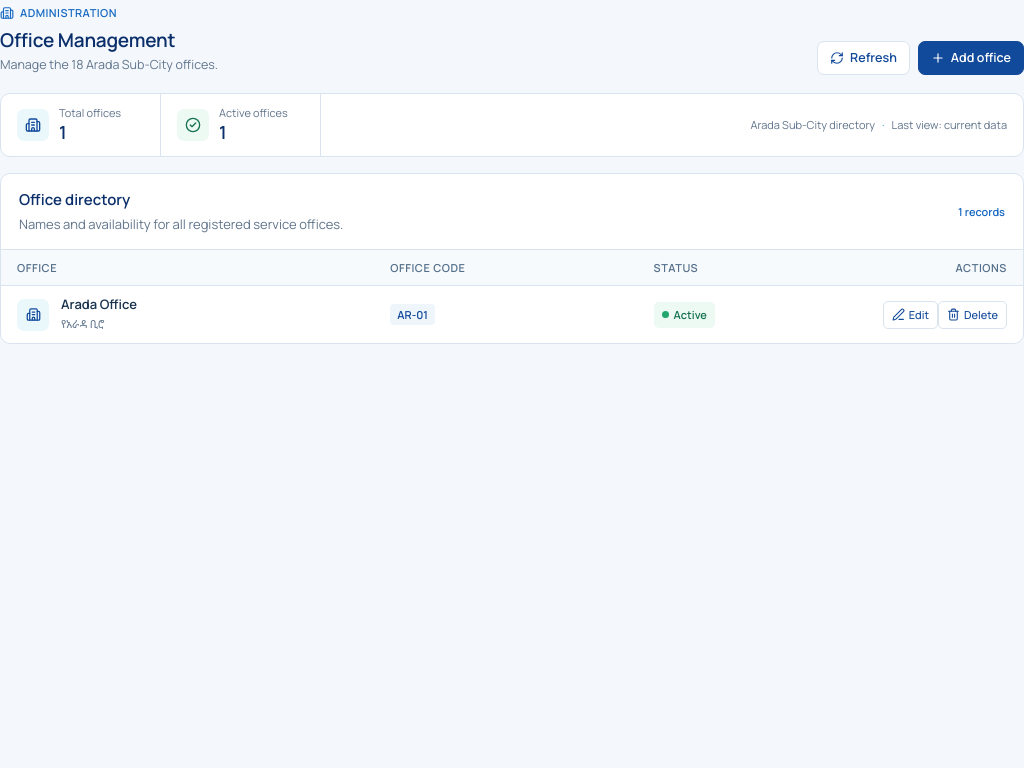
Scenario: OfficeManagement › confirms and deletes an office
The width and height of the screenshot is (1024, 768).
Expected: the text "Arada Office" is shown, [61,296,137,313]
Step 1. Click the button "Delete" → (972, 314), box [938,300,1007,328]
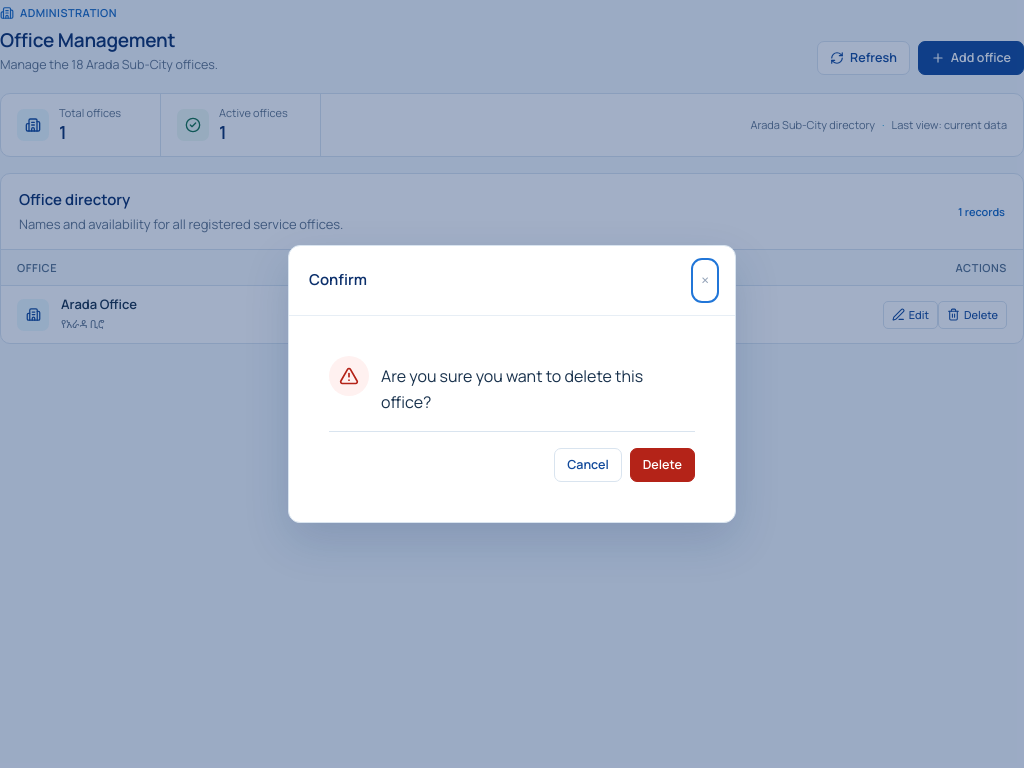
Expected: the text "Are you sure you want to delete this office?" is shown, [381,365,643,413]
Step 2. Click the button "Delete" → (662, 465), box [630,448,695,482]
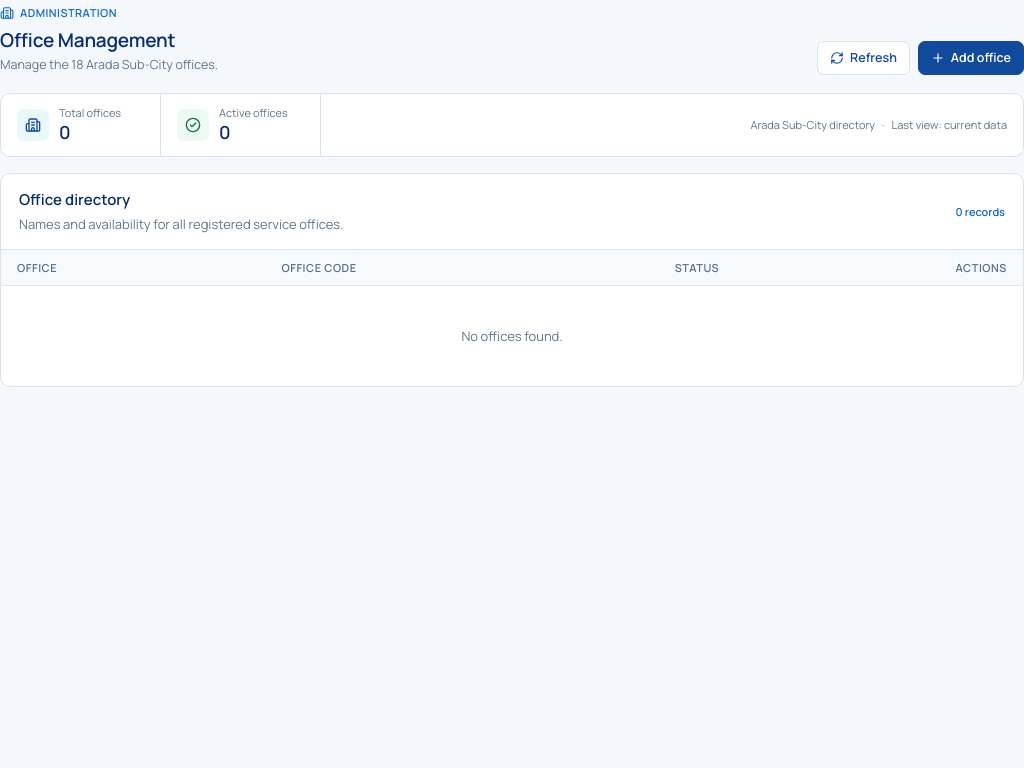
Expected: the text "Arada Office" is gone
